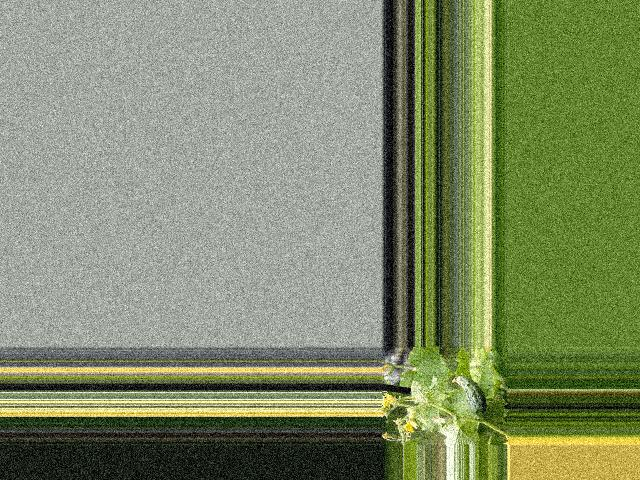cucumber: (451, 375, 486, 416)
